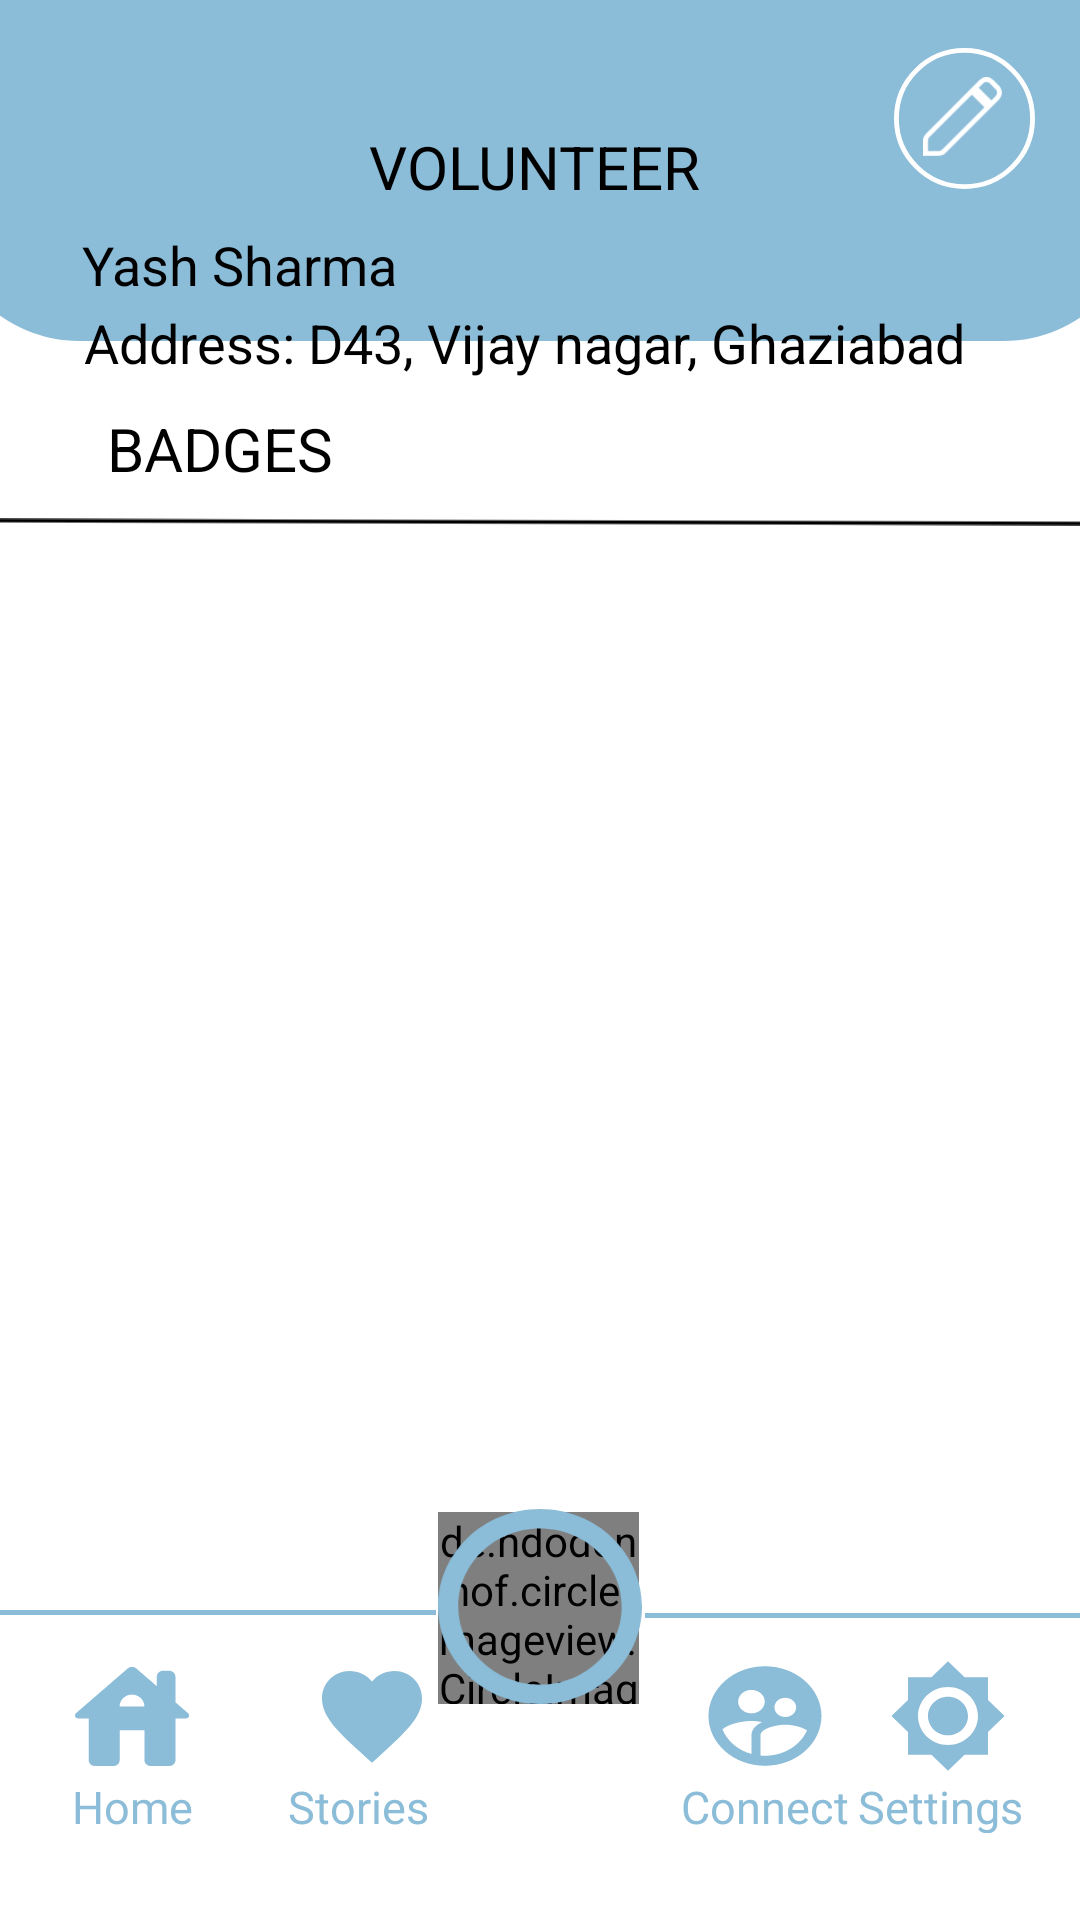

Locate icon controls on the screen. Image size 1080 x 1920, boxes as (x1, y1, x2, y2).
edit profile: (894, 48, 1035, 189)
heart: (322, 1671, 422, 1763)
